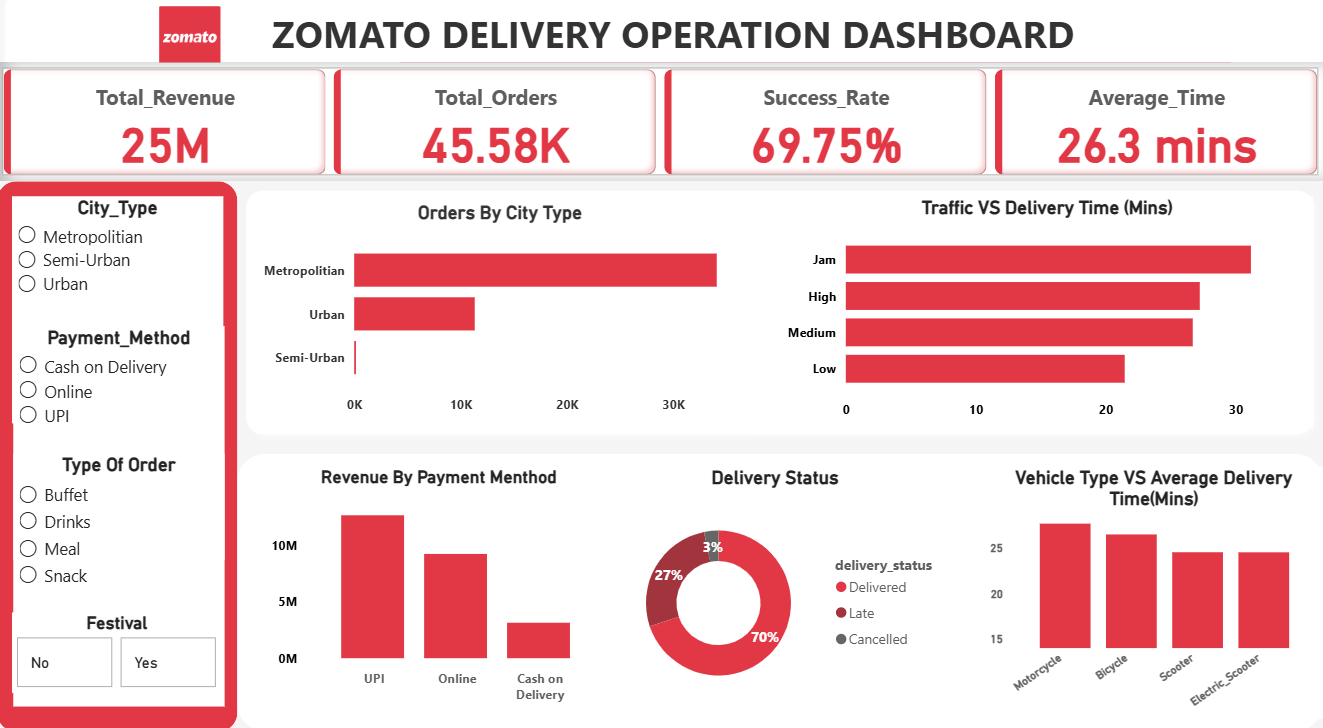

The page's visual inventory and layout, read from the dashboard file:
{"tool":"powerbi","page":{"name":"Page 1","canvas":[1280,720],"ordinal":0},"visuals":[{"type":"shape","box":[0,0,1500.4,96.2],"z":0},{"type":"textbox","title":"ZOMATO DELIVERY OPERATION DASHBOARD","box":[103.8,21.7,1097.9,53.1],"z":1000},{"type":"shape","box":[390.2,16.5,801,118.2],"z":2000},{"type":"image","box":[94.1,15.7,183.4,68.8],"z":3000},{"type":"cardVisual","fields":{"Data":["public zomato_delivery.Total_Revenue","public zomato_delivery.Total_Orders","public zomato_delivery.Success_Rate","public zomato_delivery.Average_Time"]},"box":[0,74.8,1280,114.6],"z":4000},{"type":"shape","box":[231.6,189.4,1048.4,253.4],"z":5000},{"type":"clusteredBarChart","title":"Orders By City Type","fields":{"Category":["public zomato_delivery.city_type"],"Y":["CountNonNull(public zomato_delivery.id)"]},"box":[250.9,208.7,469.3,214.7],"z":6000},{"type":"clusteredBarChart","title":"Traffic VS Delivery Time (Mins)","fields":{"Category":["public zomato_delivery.road_traffic_density"],"Y":["Avg(public zomato_delivery.time_taken)"]},"box":[756.4,203.9,513.9,224.4],"z":7000},{"type":"shape","box":[231.6,452.4,1048.4,267.8],"z":8000},{"type":"lineClusteredColumnComboChart","title":"Vehicle Type VS Average Delivery Time(Mins)","fields":{"Category":["public zomato_delivery.type_of_vehicle"],"Y":["Avg(public zomato_delivery.time_taken)"]},"box":[953.1,464.5,326.9,243.7],"z":9000},{"type":"donutChart","title":"Delivery Status","fields":{"Category":["public zomato_delivery.delivery_status"],"Y":["CountNonNull(public zomato_delivery.id)"]},"box":[579.1,464.5,343.8,243.7],"z":10000},{"type":"columnChart","title":"Revenue By Payment Menthod","fields":{"Category":["public zomato_delivery.payment_method"],"Y":["Sum(public zomato_delivery.order_value)"]},"box":[259.4,464.5,334.2,236.5],"z":11000},{"type":"shape","box":[0,188.9,232,531.5],"z":12000},{"type":"listSlicer","title":"City_Type","fields":{"Values":["public zomato_delivery.city_type"]},"box":[14.5,203.9,203.9,219.6],"z":13000},{"type":"listSlicer","title":"Payment_Method","fields":{"Values":["public zomato_delivery.payment_method"]},"box":[15.7,329.4,203.9,225.6],"z":14000},{"type":"listSlicer","title":"Type Of Order","fields":{"Values":["public zomato_delivery.type_of_order"]},"box":[15.7,452.4,203.9,243.7],"z":15000},{"type":"advancedSlicerVisual","title":"Festival","fields":{"Values":["public zomato_delivery.festival"]},"box":[14.5,605.6,202.7,77.2],"z":15001}]}

Visuals, with their boxes in screenshot pixels (x1, y1, x2, y2), scaled from the page's 1280x720 canvas onto the 1323x728 screenshot:
shape: x1=0, y1=0, x2=1322, y2=97
"ZOMATO DELIVERY OPERATION DASHBOARD" textbox: x1=107, y1=22, x2=1242, y2=76
shape: x1=403, y1=17, x2=1231, y2=136
image: x1=97, y1=16, x2=287, y2=85
cardVisual - public zomato_delivery.Total_Revenue x public zomato_delivery.Total_Orders: x1=0, y1=76, x2=1322, y2=192
shape: x1=239, y1=192, x2=1322, y2=448
"Orders By City Type" clusteredBarChart: x1=259, y1=211, x2=744, y2=428
"Traffic VS Delivery Time (Mins)" clusteredBarChart: x1=782, y1=206, x2=1313, y2=433
shape: x1=239, y1=457, x2=1322, y2=727
"Vehicle Type VS Average Delivery Time(Mins)" lineClusteredColumnComboChart: x1=985, y1=470, x2=1322, y2=716
"Delivery Status" donutChart: x1=599, y1=470, x2=954, y2=716
"Revenue By Payment Menthod" columnChart: x1=268, y1=470, x2=614, y2=709
shape: x1=0, y1=191, x2=240, y2=727
"City_Type" listSlicer: x1=15, y1=206, x2=226, y2=428
"Payment_Method" listSlicer: x1=16, y1=333, x2=227, y2=561
"Type Of Order" listSlicer: x1=16, y1=457, x2=227, y2=704
"Festival" advancedSlicerVisual: x1=15, y1=612, x2=224, y2=690
